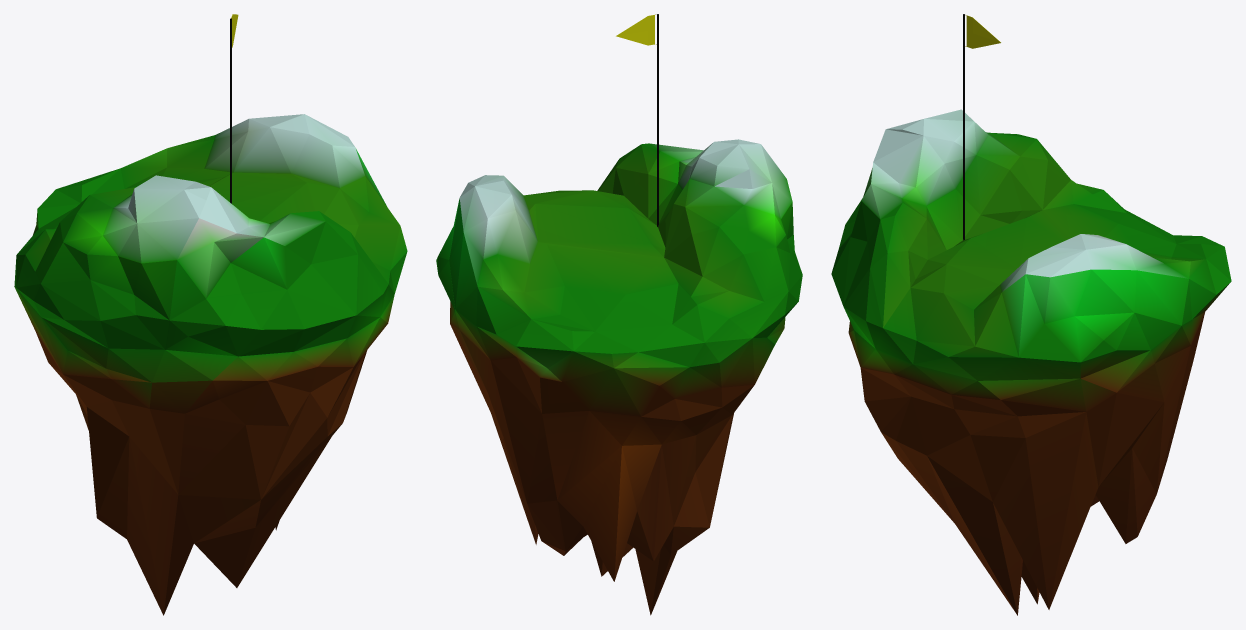
Rendered from Island1.fbx.
3 views of the same model, side by side, from view 1: azimuth 30°, elevation 25°; view 2: azimuth 150°, elevation 25°; view 3: azimuth 270°, elevation 25° (orthographic). The views are drawn at different scales.
Visible parts, largest first — view 1: Низ, Гора побольше, Гора поменьше, Взлётная; view 2: Низ, Гора побольше, Взлётная, Гора поменьше, Флаг; view 3: Низ, Гора побольше, Гора поменьше, Взлётная, Флаг.
Boxes of the visible parts, bbox=[...] form: Низ: bbox=[14, 287, 394, 615]; Гора побольше: bbox=[14, 175, 388, 356]; Гора поменьше: bbox=[56, 114, 399, 225]; Взлётная: bbox=[17, 172, 407, 316]; Низ: bbox=[450, 301, 785, 615]; Гора побольше: bbox=[597, 139, 802, 366]; Взлётная: bbox=[524, 190, 704, 385]; Гора поменьше: bbox=[436, 175, 594, 381]; Флаг: bbox=[616, 14, 656, 45]; Низ: bbox=[848, 313, 1204, 615]; Гора побольше: bbox=[831, 109, 1126, 348]; Гора поменьше: bbox=[949, 234, 1231, 380]; Взлётная: bbox=[875, 204, 1223, 380]; Флаг: bbox=[965, 15, 1000, 48].
Size of the model in its own units: 2148 by 3573 by 2143.
